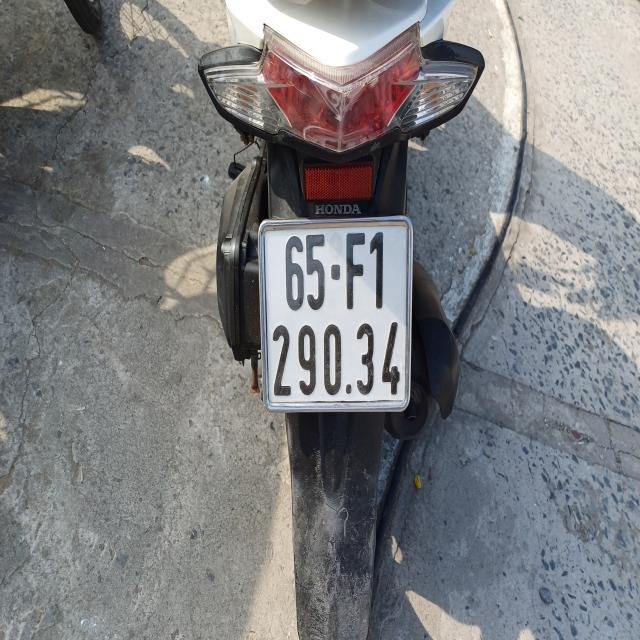0: (319, 320, 344, 396)
1: (365, 230, 388, 313)
2: (268, 322, 291, 402)
3: (353, 321, 379, 396)
4: (380, 319, 400, 400)
5: (304, 232, 328, 314)
6: (281, 233, 307, 314)
9: (292, 322, 320, 398)
F: (342, 232, 368, 308)
